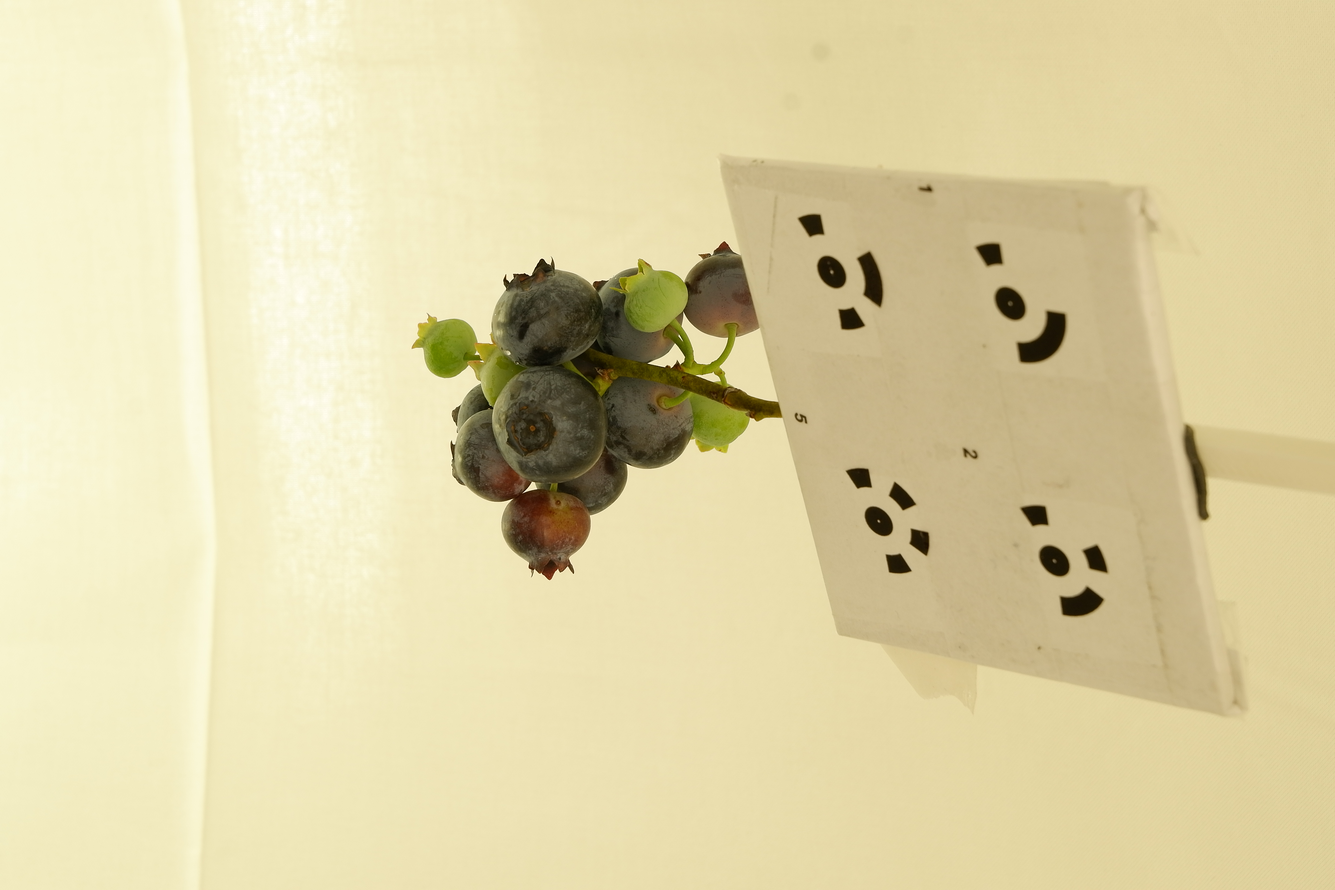Immature: (593, 265, 684, 362), (502, 489, 590, 580), (453, 411, 532, 501), (685, 242, 759, 338), (620, 259, 688, 333), (688, 380, 751, 453), (468, 333, 528, 408), (416, 318, 476, 375)
Mature: (492, 366, 606, 483), (494, 262, 605, 367), (602, 378, 693, 468), (535, 447, 629, 515), (451, 384, 493, 432)
